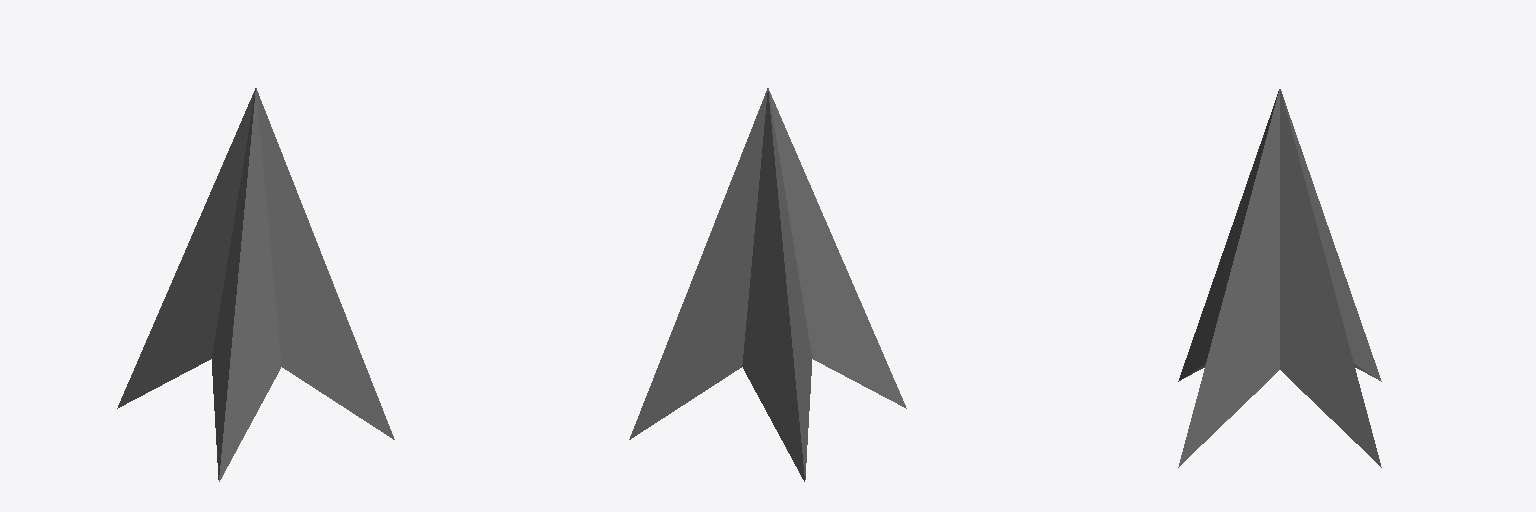
File: Angry_fly.obj
3 views of the same model, side by side, from view 1: azimuth 30°, elevation 25°; view 2: azimuth 150°, elevation 25°; view 3: azimuth 270°, elevation 25° (orthographic).
Visible parts, largest first — view 1: Angry_flyobj:pCone1; view 2: Angry_flyobj:pCone1; view 3: Angry_flyobj:pCone1.
Part boxes in pixels (left/top/right/bottom): Angry_flyobj:pCone1: left=117, top=88, right=394, bottom=481; Angry_flyobj:pCone1: left=629, top=88, right=906, bottom=481; Angry_flyobj:pCone1: left=1178, top=89, right=1381, bottom=467.
Bounding box in the file's own units: 1.41 × 2.59 × 1.41.